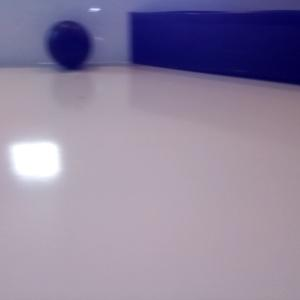zone: (130, 11, 300, 85)
